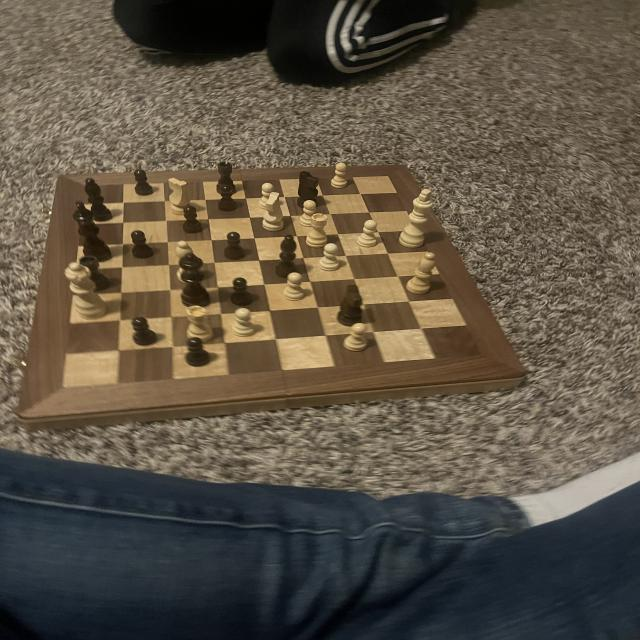bishop: (84, 175, 116, 222), (272, 233, 301, 280)
black-bishop: (70, 200, 117, 263)
black-king: (331, 282, 372, 332), (294, 168, 324, 210)
black-knight: (180, 336, 213, 370), (131, 315, 162, 348), (127, 229, 157, 261), (228, 276, 254, 307), (222, 230, 248, 260), (182, 205, 208, 235), (216, 184, 241, 214), (132, 167, 156, 196)
black-pawn: (178, 252, 212, 308)
black-queen: (75, 255, 112, 295), (212, 160, 238, 195)
black-rook: (402, 250, 440, 297), (172, 240, 204, 285)
white-bishop: (395, 188, 437, 249)
white-king: (260, 190, 288, 231), (165, 174, 192, 216)
white-knight: (228, 304, 260, 340), (340, 322, 372, 355), (281, 271, 309, 303), (354, 218, 381, 250), (316, 242, 343, 273), (296, 198, 323, 228), (256, 180, 280, 212), (329, 162, 352, 190)
white-pawn: (62, 262, 114, 321)
white-queen: (183, 304, 217, 346), (306, 211, 333, 249)
